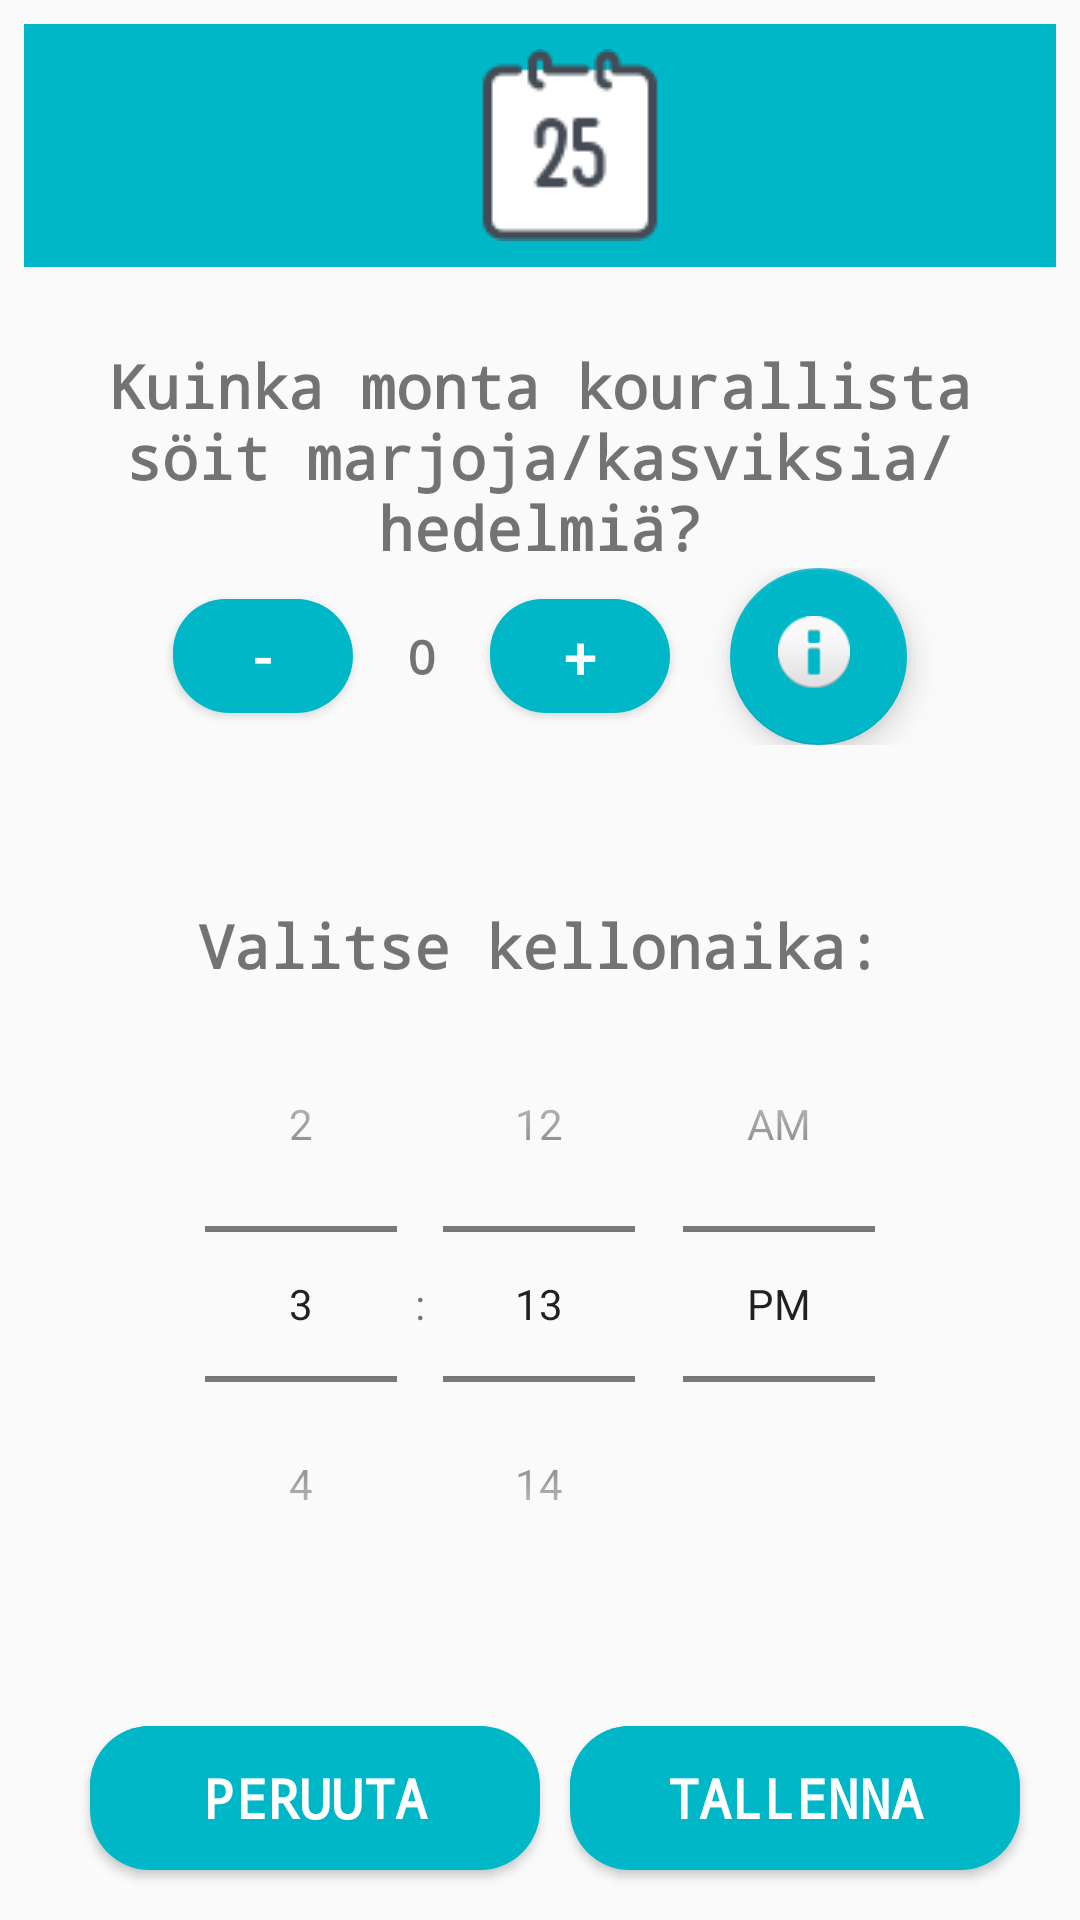

Screen size 1080*1920. Icon name, then its box in pixels as bbox=(x1, y1, x2, y2):
calendericon: bbox=(482, 49, 658, 241)
info: bbox=(730, 568, 907, 745)
